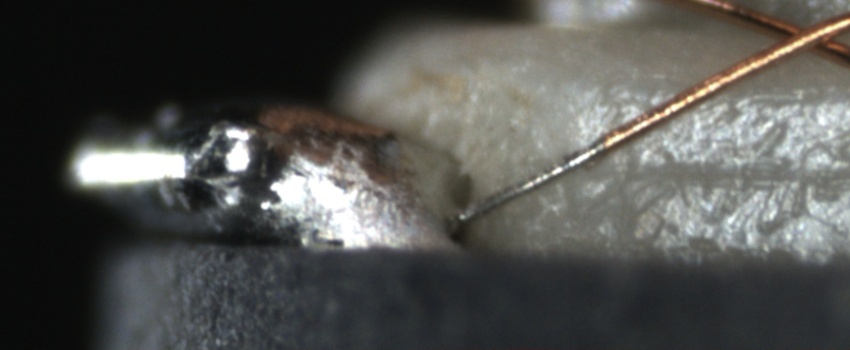CL: (758, 9, 847, 62)
DL: (527, 67, 850, 131), (572, 144, 850, 208)
TS: (456, 142, 604, 223)
